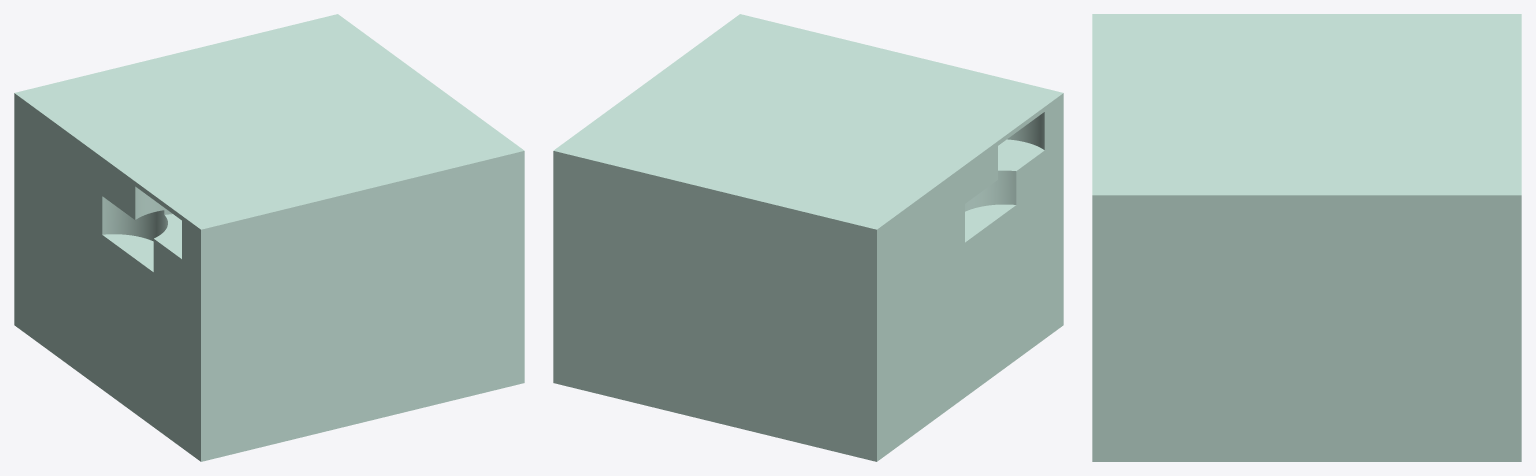
3 views of the same model, side by side, from view 1: azimuth 30°, elevation 25°; view 2: azimuth 150°, elevation 25°; view 3: azimuth 270°, elevation 25° (orthographic). The views are drawn at different scales.
Parts seen in each view (by area): view 1: Renderer Node; view 2: Renderer Node; view 3: Renderer Node.
Boxes of the visible parts, x1=… form: Renderer Node: x1=14, y1=14, x2=524, y2=461; Renderer Node: x1=553, y1=14, x2=1063, y2=461; Renderer Node: x1=1092, y1=14, x2=1521, y2=461.
Bounding box in the file's own units: 1.09 × 0.75 × 1.09.
